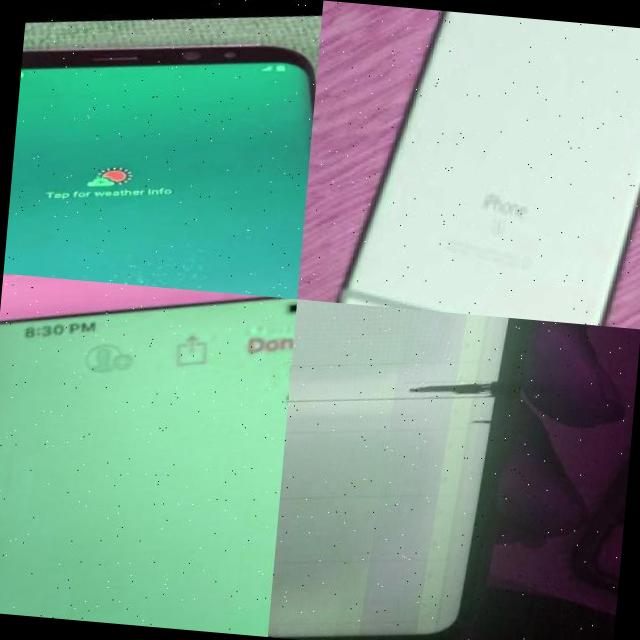dead pixel: (392, 352, 516, 408), (245, 294, 297, 398)
